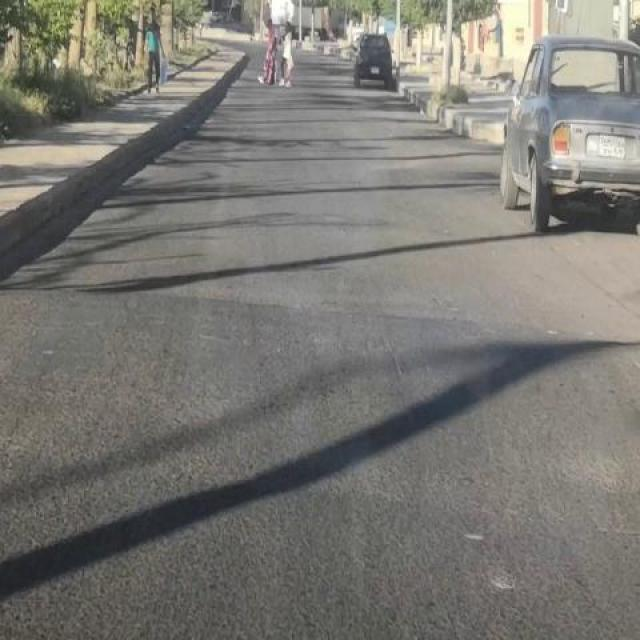Unmarked Bump: (0, 284, 640, 536)
